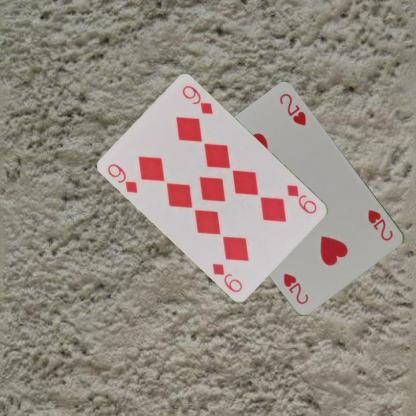2h: (365, 207, 395, 243)
9d: (105, 161, 140, 195), (284, 182, 318, 216)
